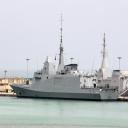Fragata: (10, 10, 121, 100)
